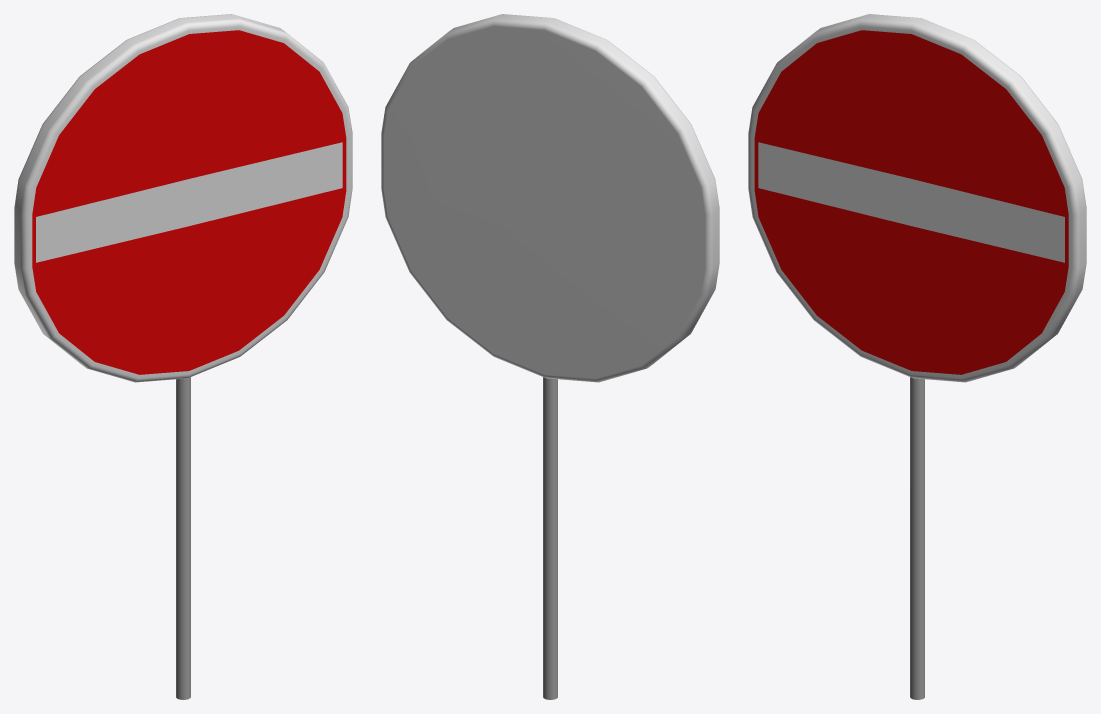
The model's file is tabela.fbx.
The picture shows the model from 3 angles, left to right: view 1: azimuth 30°, elevation 25°; view 2: azimuth 150°, elevation 25°; view 3: azimuth 330°, elevation 25°; orthographic projection.
Parts seen in each view (by area): view 1: Tabela; view 2: Tabela; view 3: Tabela.
Boxes of the visible parts, x1,y1,x2,y2 form: Tabela: (14,14,352,699); Tabela: (381,14,719,699); Tabela: (748,14,1086,699).
Bounding box in the file's own units: 72.61 × 142 × 4.44.
